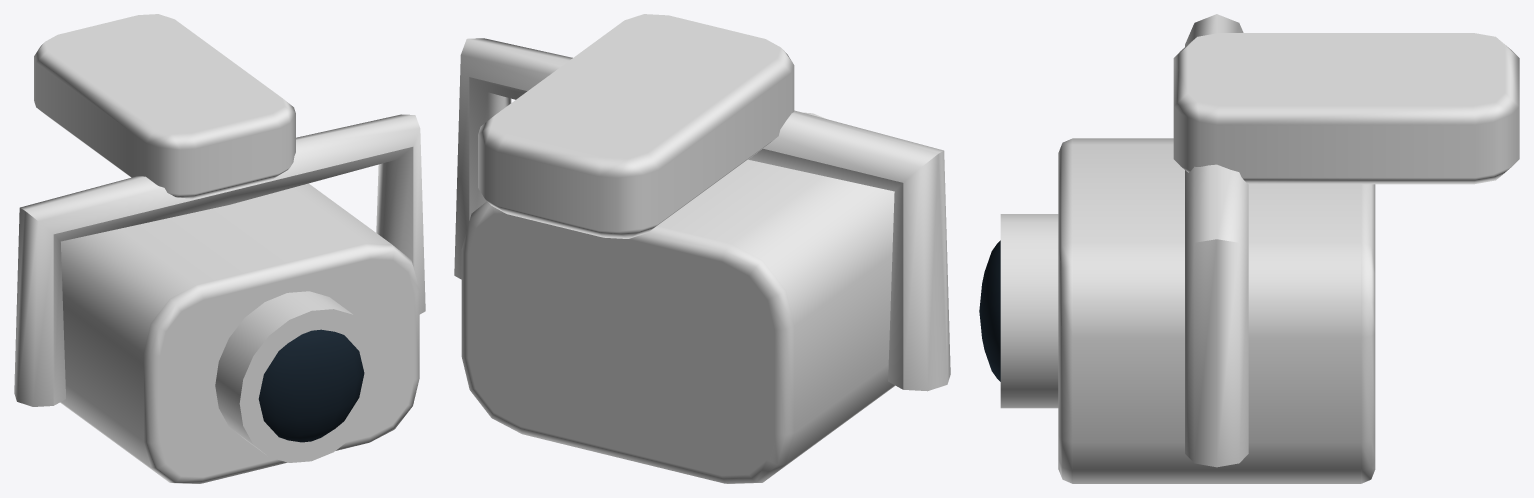
File: SalvageDrone_Camera.fbx
3 renders of one model, left to right at view 1: azimuth 30°, elevation 25°; view 2: azimuth 150°, elevation 25°; view 3: azimuth 270°, elevation 25°, orthographic. The views are drawn at different scales.
Visible parts, largest first — view 1: Drone_CameraHousing, Drone_GimbalBoom, Drone_GimbalYoke_-1, Drone_LensRing, Drone_GimbalYoke_1, Drone_Lens; view 2: Drone_CameraHousing, Drone_GimbalBoom, Drone_GimbalYoke_-1, Drone_GimbalYoke_1; view 3: Drone_CameraHousing, Drone_GimbalBoom, Drone_GimbalYoke_1, Drone_LensRing, Drone_Lens, Drone_GimbalYoke_-1.
Boxes of the visible parts, x1,y1,x2,y2 form: Drone_CameraHousing: (60, 183, 419, 483); Drone_GimbalBoom: (34, 14, 295, 198); Drone_GimbalYoke_-1: (14, 176, 233, 406); Drone_LensRing: (215, 291, 383, 462); Drone_GimbalYoke_1: (229, 114, 425, 314); Drone_Lens: (258, 329, 364, 442); Drone_CameraHousing: (461, 159, 895, 483); Drone_GimbalBoom: (478, 14, 794, 238); Drone_GimbalYoke_-1: (748, 110, 950, 391); Drone_GimbalYoke_1: (454, 38, 572, 279); Drone_CameraHousing: (1058, 138, 1375, 483); Drone_GimbalBoom: (1173, 33, 1519, 184); Drone_GimbalYoke_1: (1185, 164, 1248, 467); Drone_LensRing: (1000, 214, 1058, 408); Drone_Lens: (979, 240, 1000, 381); Drone_GimbalYoke_-1: (1185, 14, 1243, 46).
Bounding box in the file's own units: 0.0384 × 0.0275 × 0.0375.
